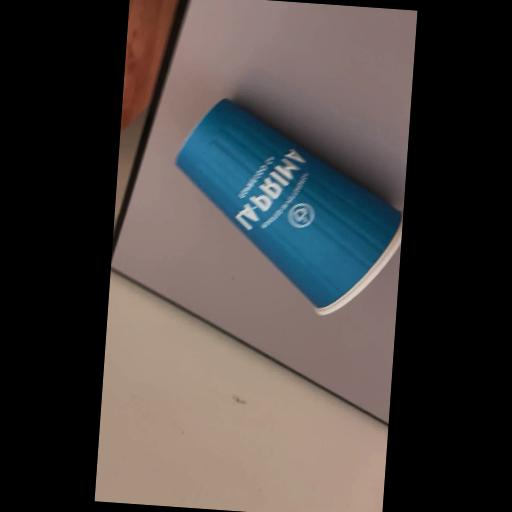lp_paper_cup: (166, 97, 409, 319)
